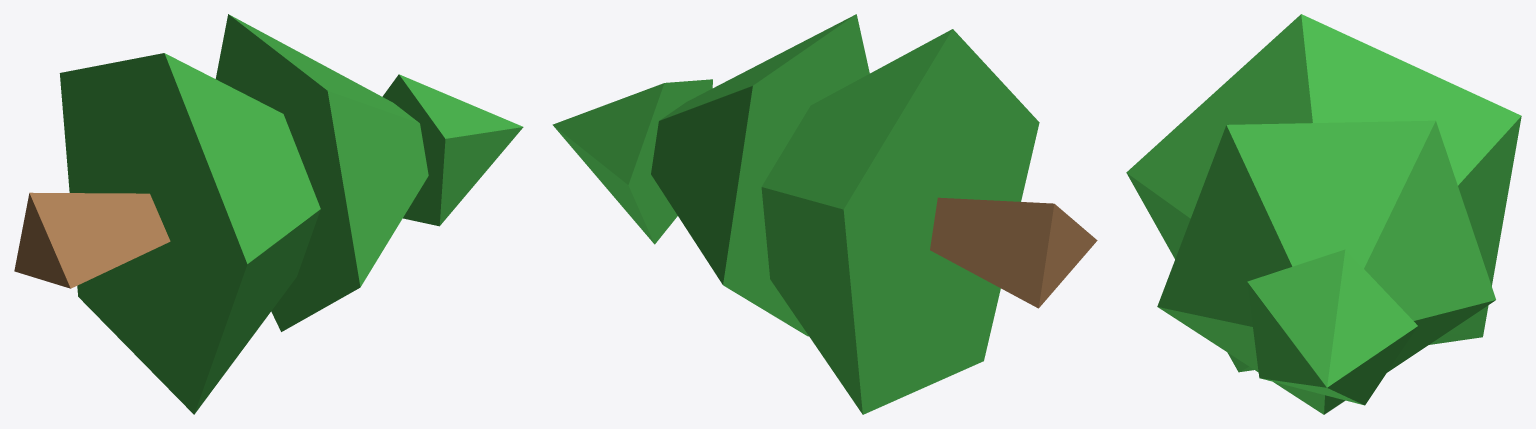
The model's file is tree.obj.
3 renders of one model, left to right at view 1: azimuth 30°, elevation 25°; view 2: azimuth 150°, elevation 25°; view 3: azimuth 270°, elevation 25°, orthographic. The views are drawn at different scales.
Visible parts, largest first — view 1: group_4634441, group_11107152; view 2: group_4634441, group_11107152; view 3: group_4634441.
Boxes of the visible parts, bbox=[...] form: group_4634441: bbox=[59, 14, 523, 414]; group_11107152: bbox=[14, 192, 170, 288]; group_4634441: bbox=[552, 14, 1039, 414]; group_11107152: bbox=[930, 197, 1097, 308]; group_4634441: bbox=[1126, 14, 1521, 414].
Size of the model in its own units: 6 by 4 by 4.
